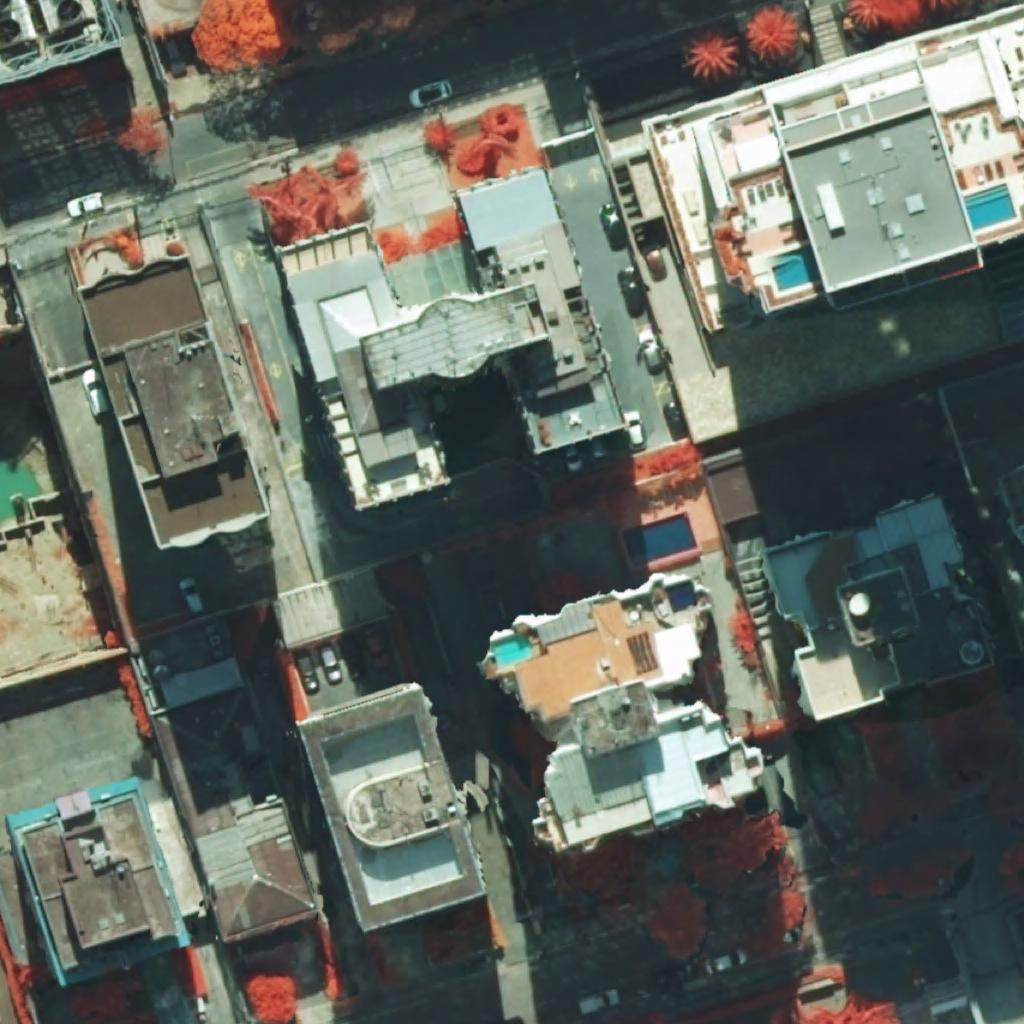pool: (622, 512, 697, 567), (962, 182, 1017, 231), (771, 244, 821, 291), (492, 634, 532, 667), (664, 580, 698, 614)
